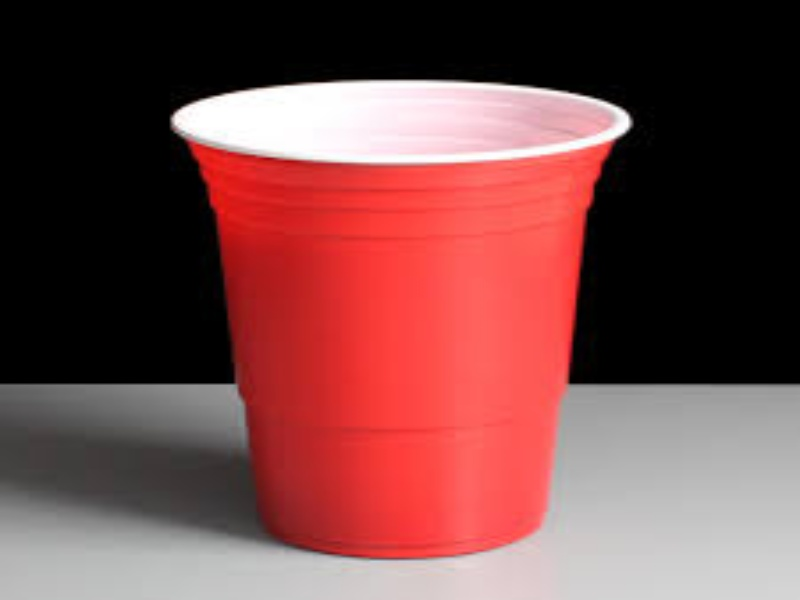cup: (158, 51, 631, 553)
